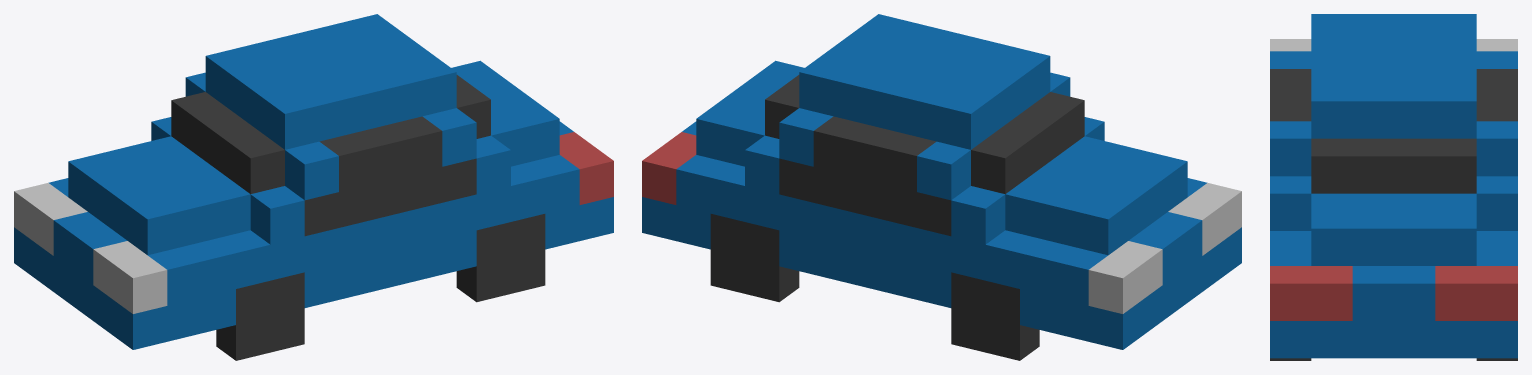
Rendered from car-v6-blue.gltf.
3 renders of one model, left to right at view 1: azimuth 30°, elevation 25°; view 2: azimuth 150°, elevation 25°; view 3: azimuth 270°, elevation 25°, orthographic. The views are drawn at different scales.
Parts seen in each view (by area): view 1: model, wheels; view 2: model, wheels; view 3: model, wheels.
Boxes of the visible parts, x1,y1,x2,y2 form: model: [14, 14, 613, 349]; wheels: [216, 214, 545, 360]; model: [642, 14, 1241, 349]; wheels: [710, 214, 1039, 360]; model: [1270, 14, 1517, 358]; wheels: [1270, 358, 1517, 360].
Size of the model in its own units: 1.4 by 0.6 by 0.6.
2 materials, 2 textured.
